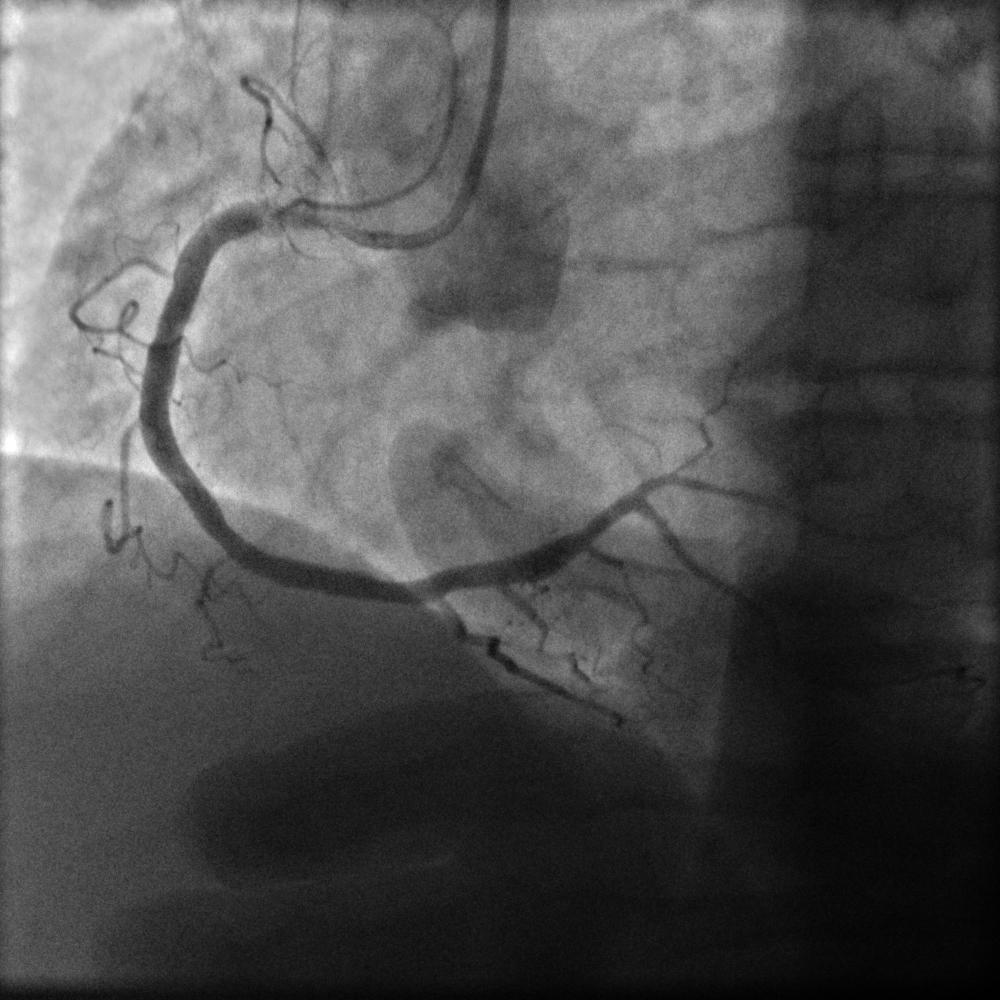Stenosis: (238, 189, 340, 240)
